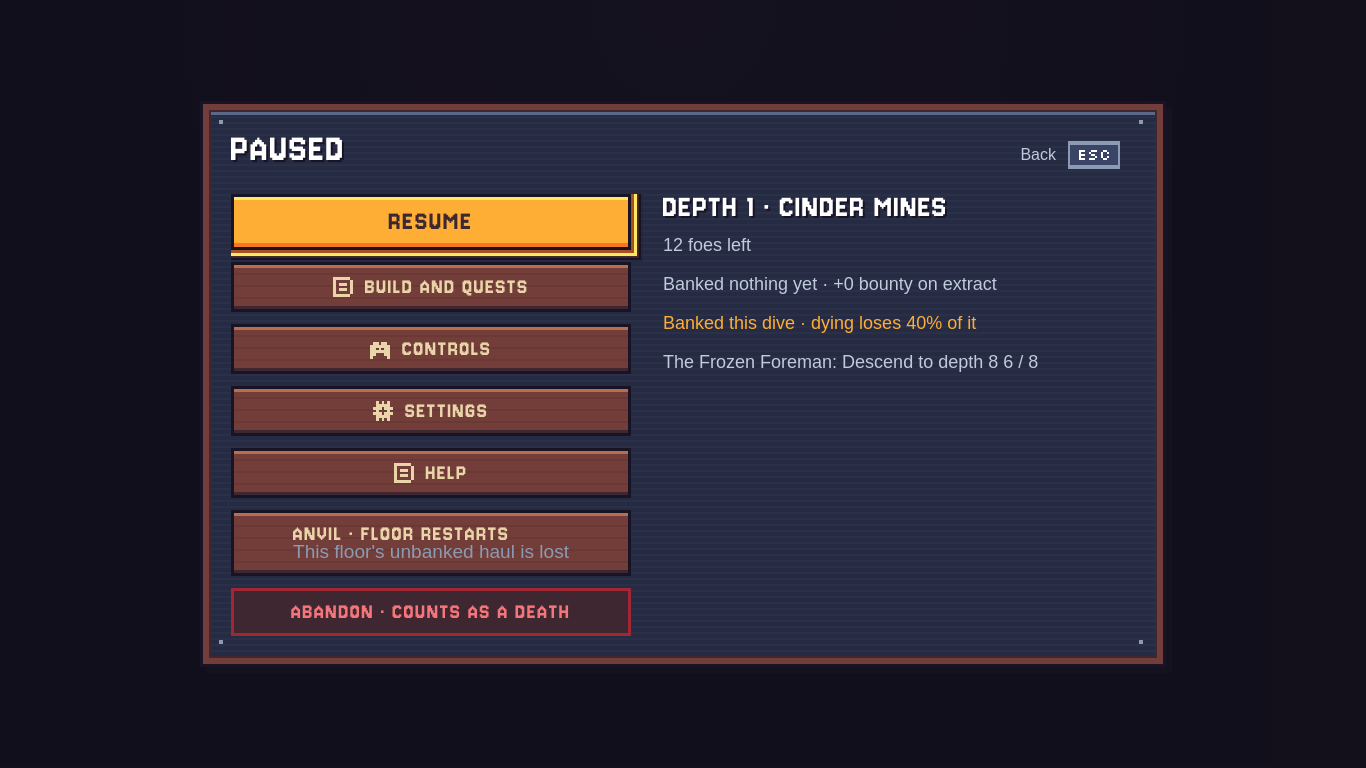
Test: PauseScreen › Controls and Settings open over the pause, and Esc closes only them
Click the button with test id "open-controls": (431, 349) [231,324,631,374]
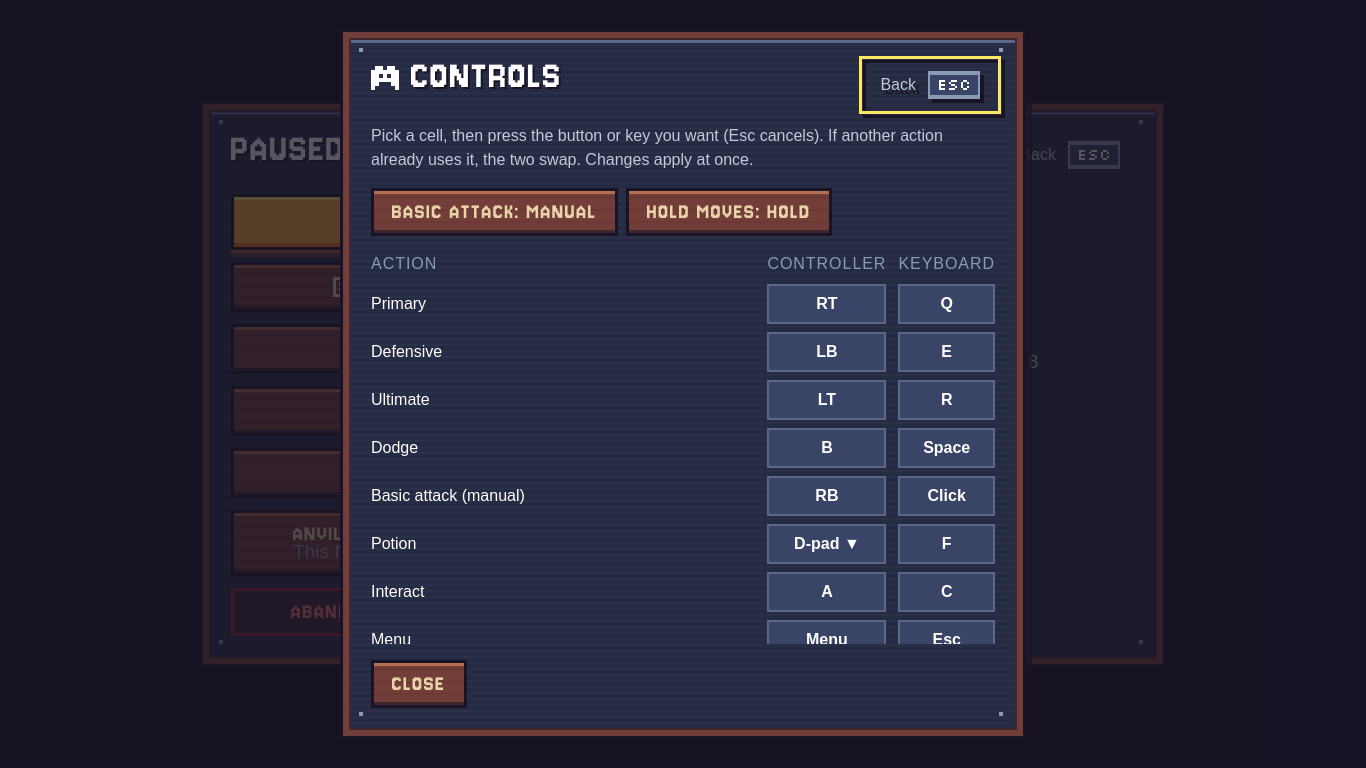
Result: the button with test id "attack-mode-toggle" reads "Basic attack: Manual" at [371,188,618,236]
Press Escape
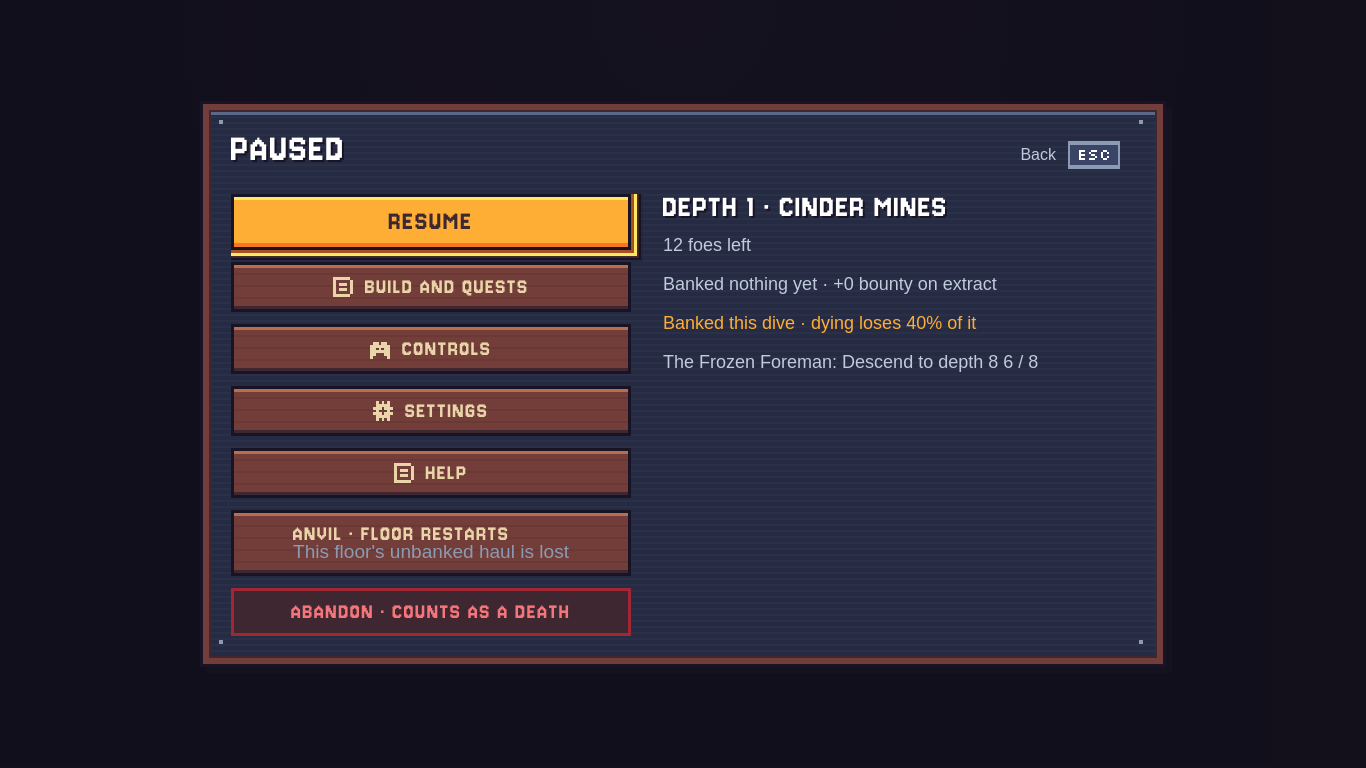
Result: the dialog with test id "controls-panel" is gone
Click the button with test id "open-settings": (431, 411) [231,386,631,436]
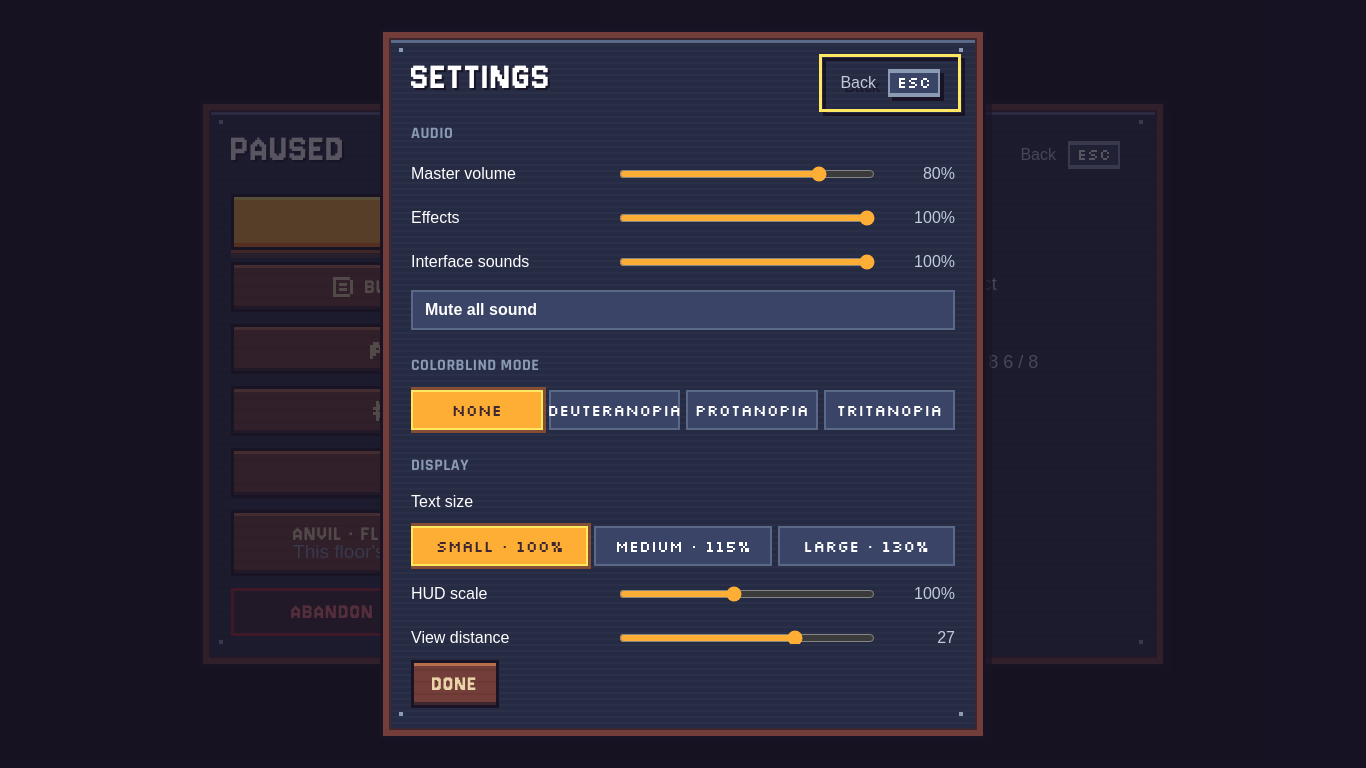
Result: the dialog with test id "settings-panel" is shown at [383,32,983,736]
Press Escape
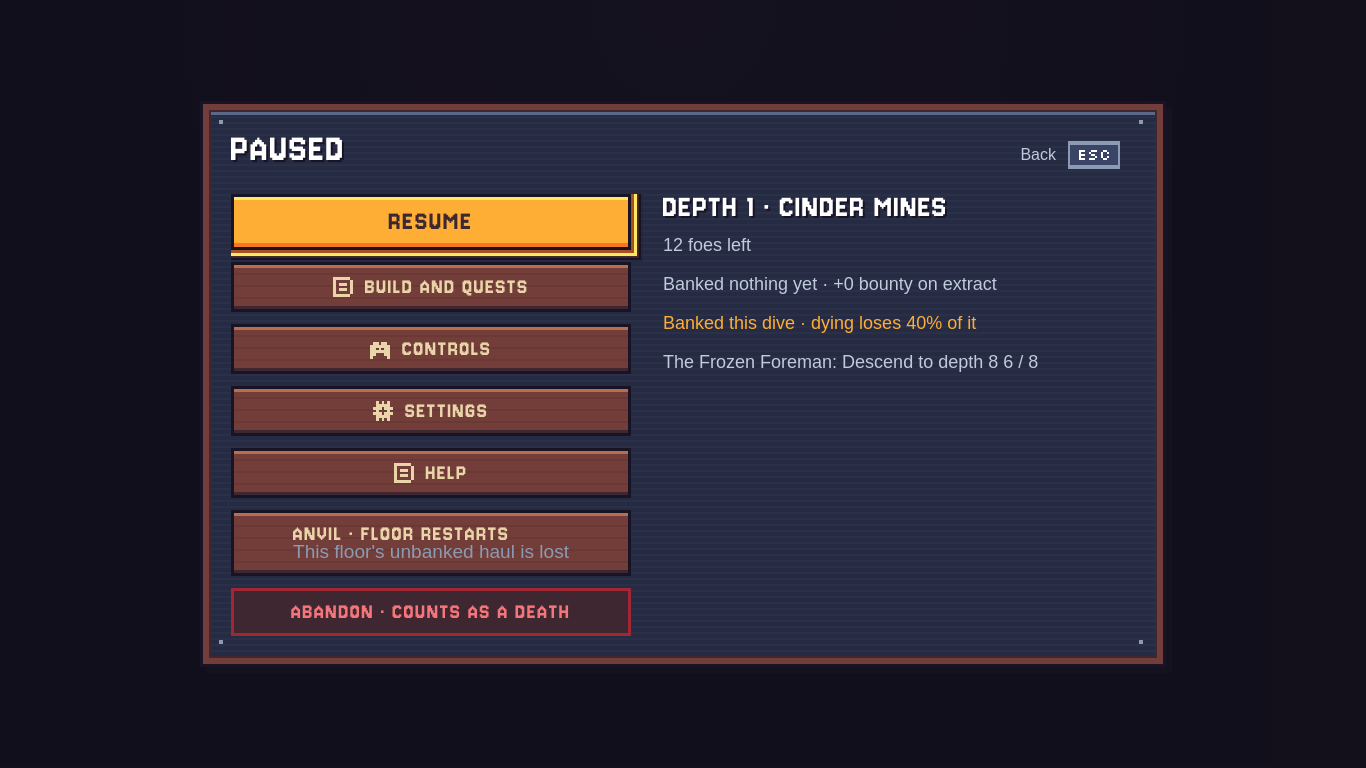
Result: the dialog with test id "settings-panel" is gone
